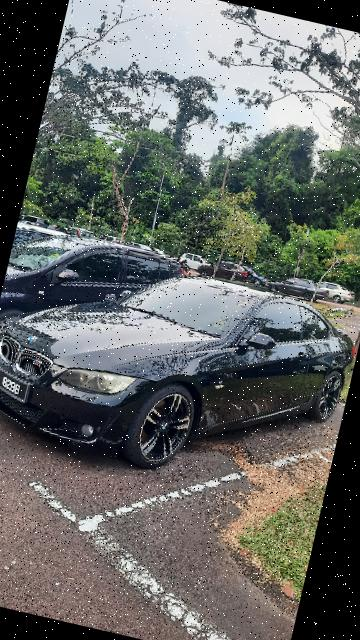License_Plate: (1, 356, 41, 408)
car: (1, 231, 360, 513), (1, 219, 191, 380)
